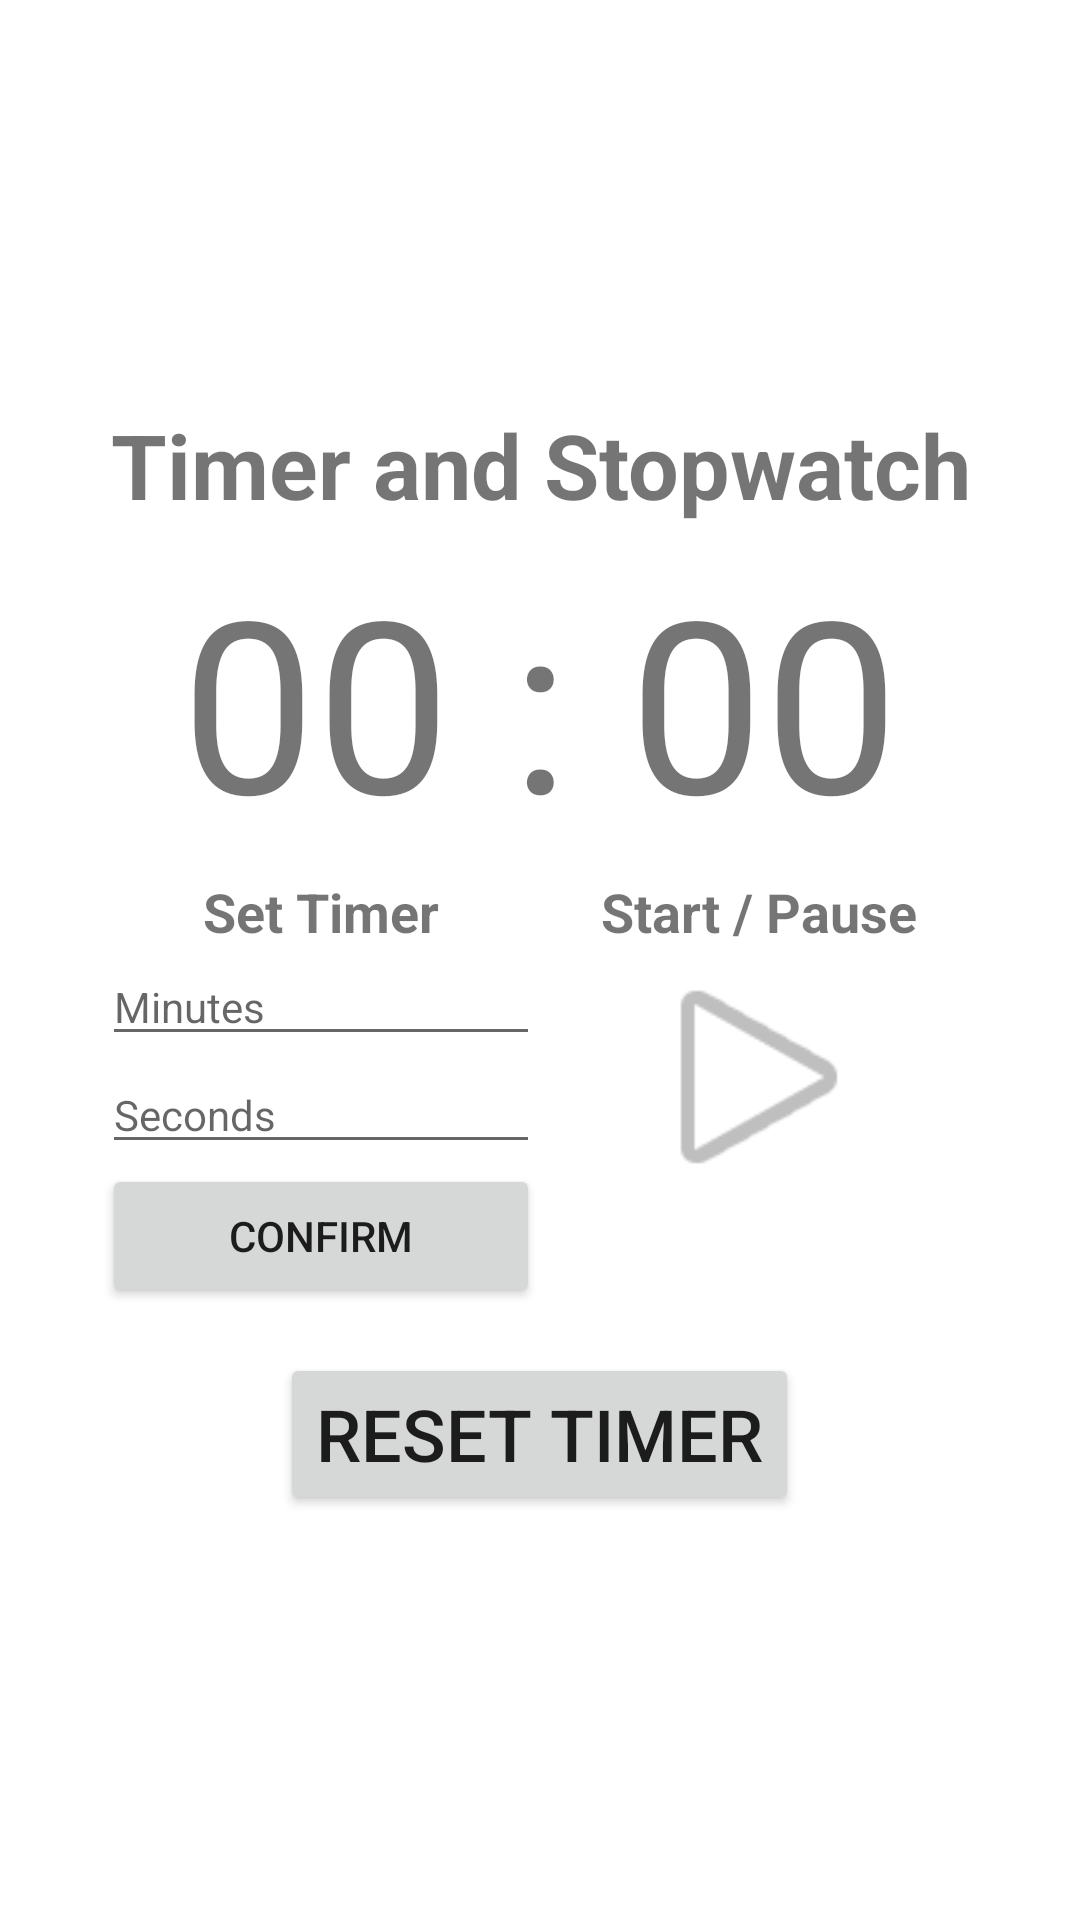

Named icons in this screenshot (1080 x 1920) and their centers, (x=x, y=y):
play: (x=759, y=1077)
